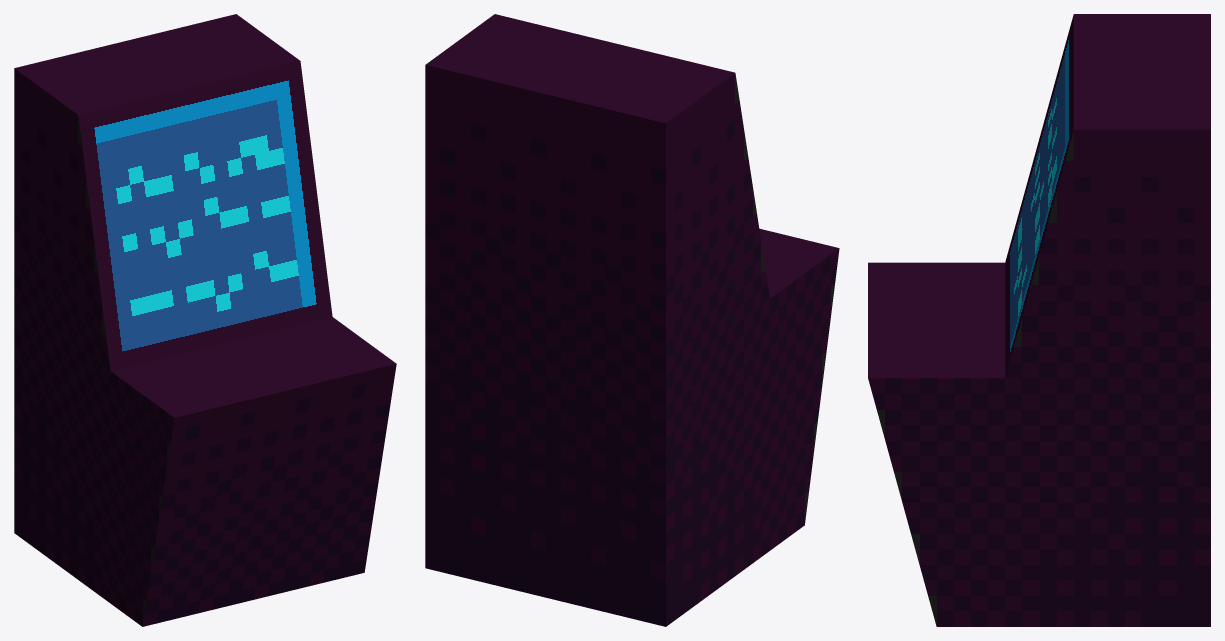
Rendered from DataPoint Model.gltf.
3 views of the same model, side by side, from view 1: azimuth 30°, elevation 25°; view 2: azimuth 150°, elevation 25°; view 3: azimuth 270°, elevation 25° (orthographic). The views are drawn at different scales.
Visible parts, largest first — view 1: default; view 2: default; view 3: default.
Boxes of the visible parts, x1,y1,x2,y2 form: default: [14, 14, 396, 626]; default: [425, 14, 839, 626]; default: [868, 14, 1210, 626].
Size of the model in its own units: 1 by 2 by 1.25.
Materials: 1 (1 with a texture image).
